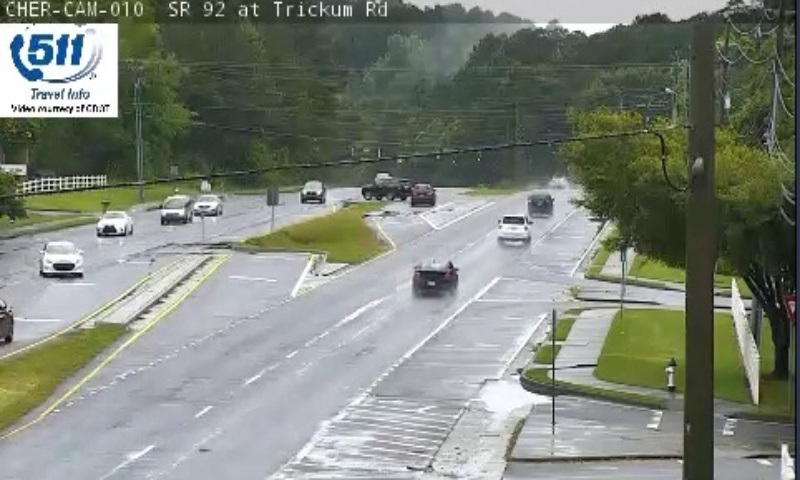car: (413, 259, 458, 292), (496, 214, 529, 241), (527, 191, 552, 214)
